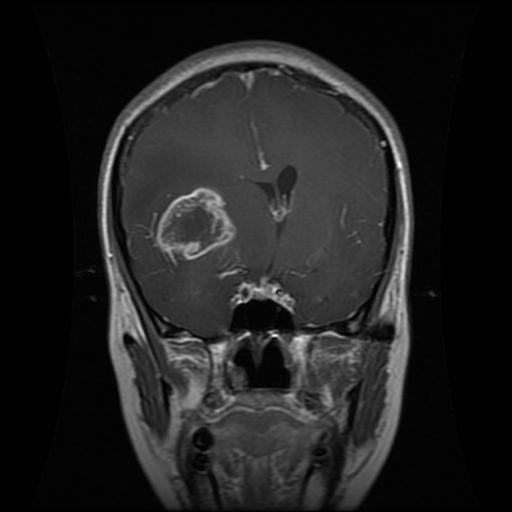Gliomia_tumour: (142, 181, 241, 269)
